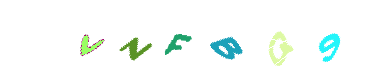9: (283, 0, 363, 80)
B: (169, 0, 249, 80)
F: (153, 0, 233, 80)
N: (89, 0, 169, 80)
Q: (209, 0, 289, 80)
V: (61, 0, 141, 80)
